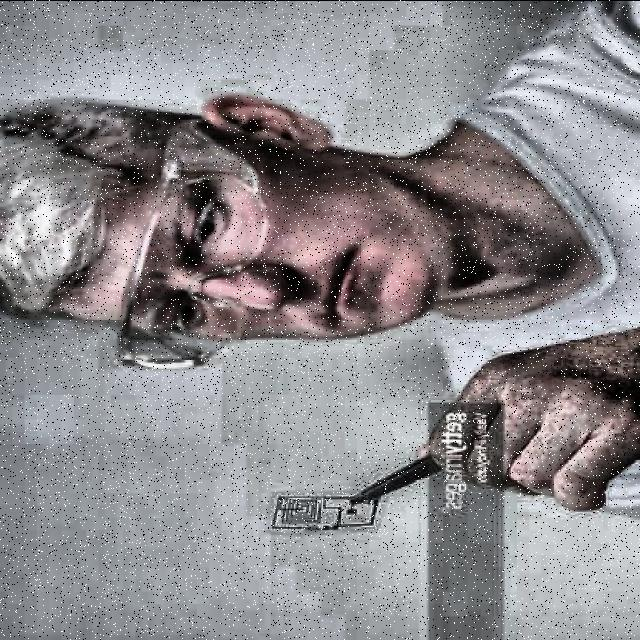Goggles: (73, 124, 273, 380)
